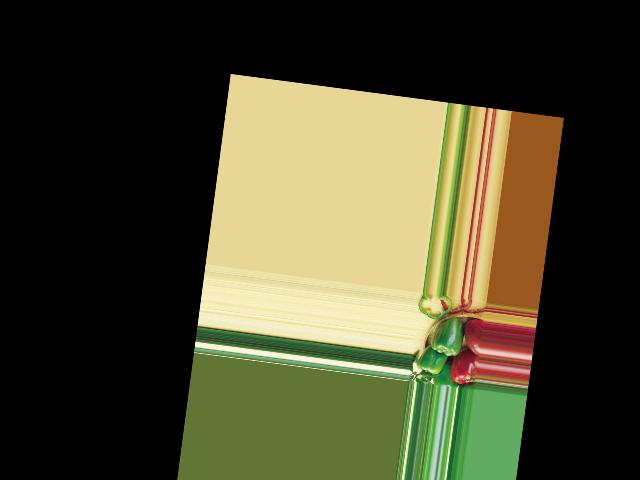bell_pepper: (462, 317, 483, 356)
